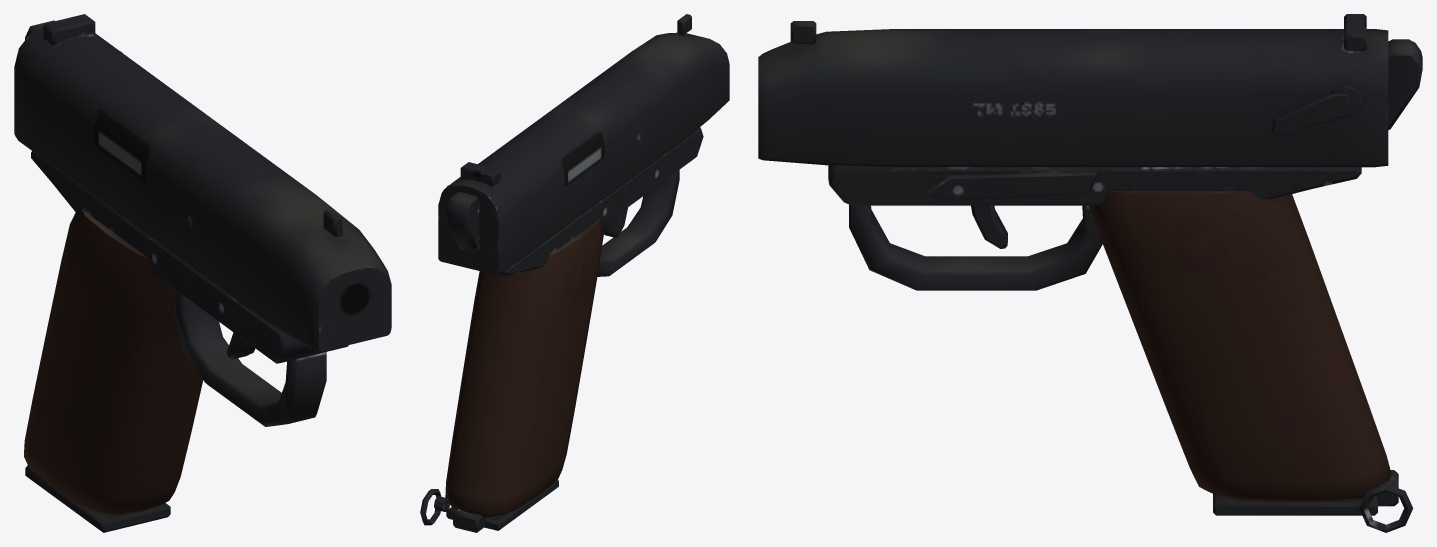
The picture shows the model from 3 angles, left to right: view 1: azimuth 30°, elevation 25°; view 2: azimuth 150°, elevation 25°; view 3: azimuth 270°, elevation 25°; orthographic projection. The views are drawn at different scales.
Visible parts, largest first — view 1: pm_mesh; view 2: pm_mesh; view 3: pm_mesh.
Boxes of the visible parts, x1,y1,x2,y2 form: pm_mesh: (14,14,391,532); pm_mesh: (420,14,729,532); pm_mesh: (758,14,1422,532).
Size of what is drawn, in the model's own units: 0.0307 by 0.1302 by 0.1613.
1 material, 1 textured.
